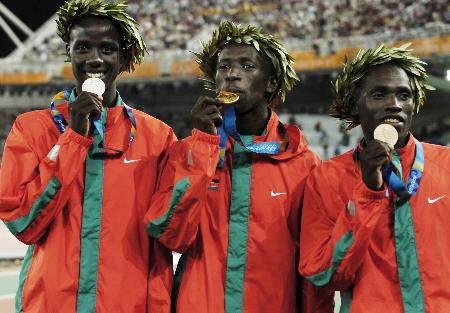face: (363, 70, 415, 138), (216, 44, 267, 111), (72, 23, 122, 86)
